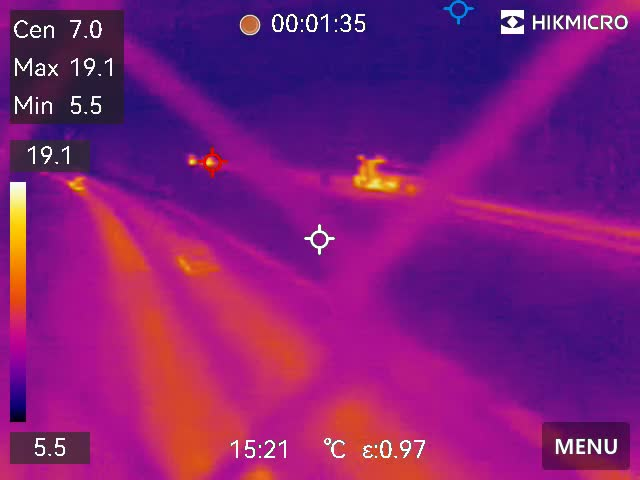heavyTruck: (359, 154, 451, 200)
